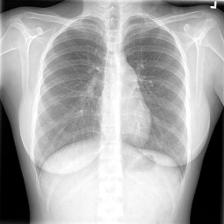normal: (30, 11, 192, 204)
